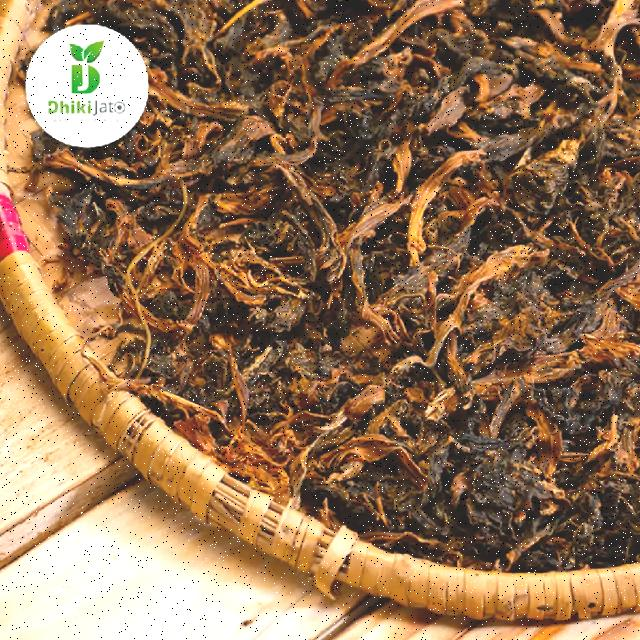NA: (183, 42, 588, 444), (304, 371, 618, 545)
